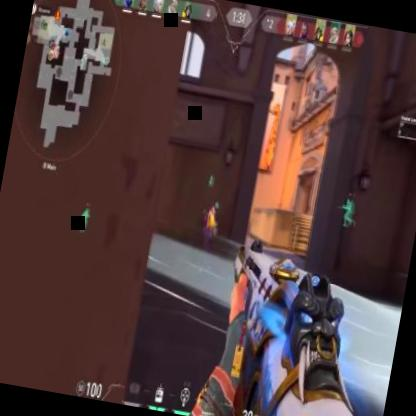enemy: (193, 198, 222, 272)
enemy_head: (212, 201, 219, 215)
